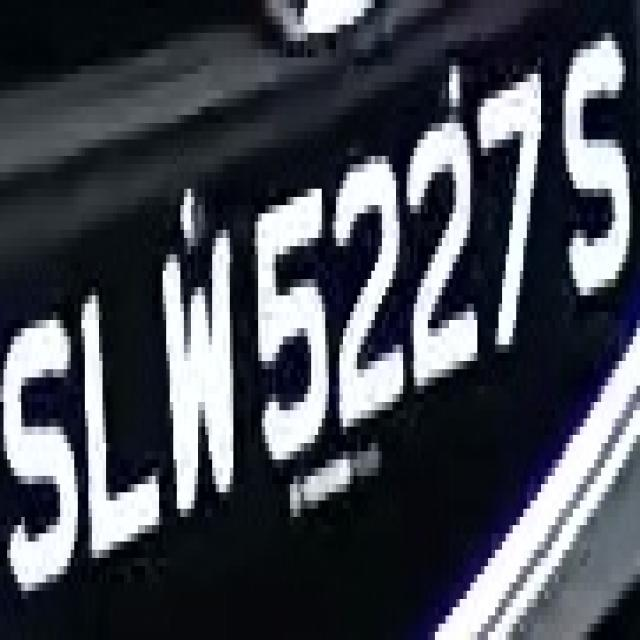2: (318, 115, 400, 451), (396, 123, 481, 410)
5: (247, 180, 336, 500)
7: (463, 66, 555, 402)
L: (78, 287, 166, 566)
S: (7, 287, 85, 607), (548, 33, 633, 312)
W: (142, 205, 240, 525)
